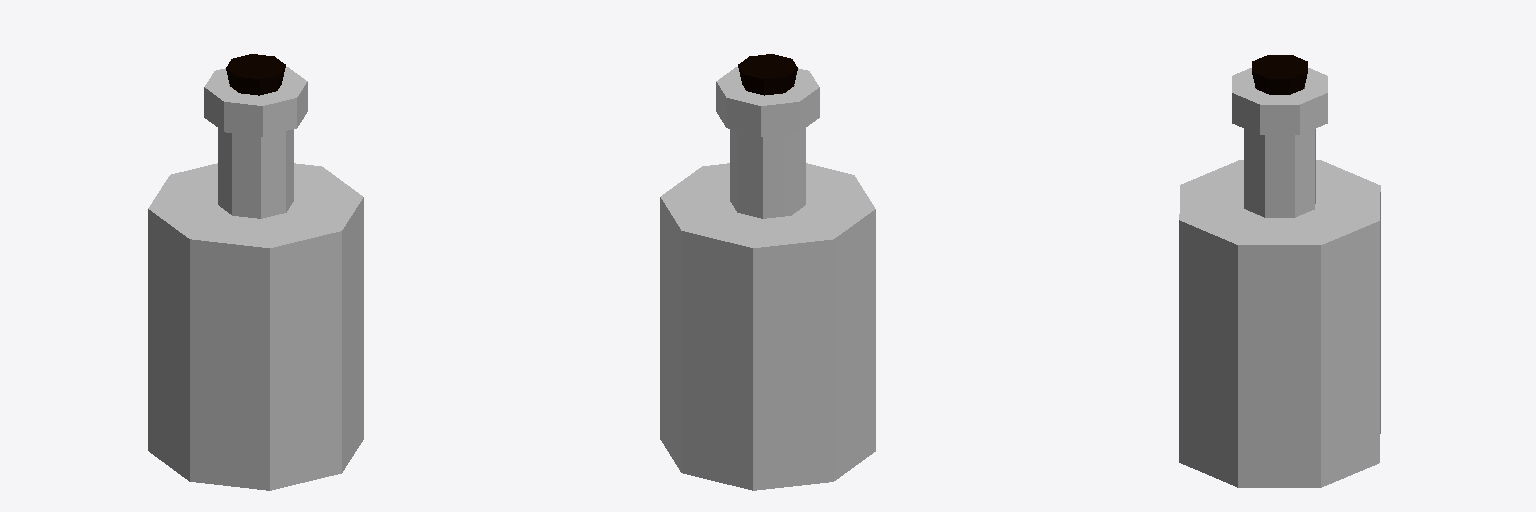
The model's file is flask_2.obj.
3 renders of one model, left to right at view 1: azimuth 30°, elevation 25°; view 2: azimuth 150°, elevation 25°; view 3: azimuth 270°, elevation 25°, orthographic.
Visible parts, largest first — view 1: 22_Цилиндр.001; view 2: 22_Цилиндр.001; view 3: 22_Цилиндр.001.
Boxes of the visible parts, x1,y1,x2,y2 form: 22_Цилиндр.001: [148, 54, 363, 490]; 22_Цилиндр.001: [660, 54, 875, 490]; 22_Цилиндр.001: [1179, 55, 1380, 487].
Bounding box in the file's own units: 0.4308 × 0.8952 × 0.4308.